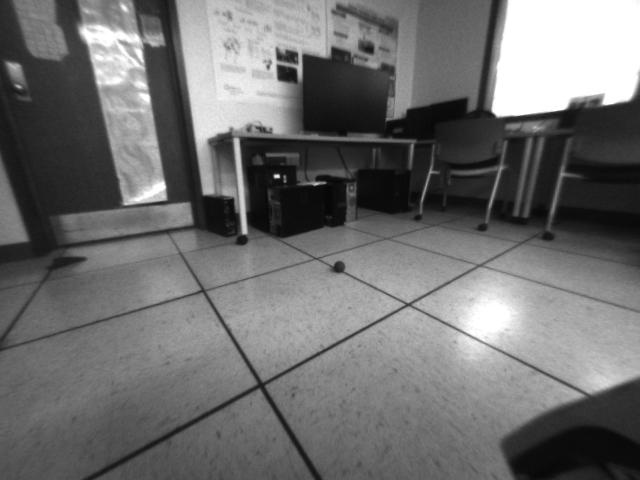dogtoy: (327, 254, 351, 275)
